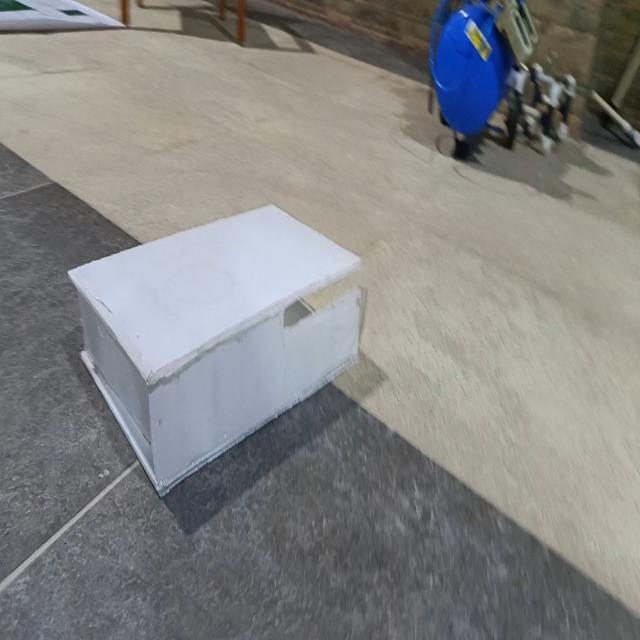Cuboid: (66, 201, 367, 498)
